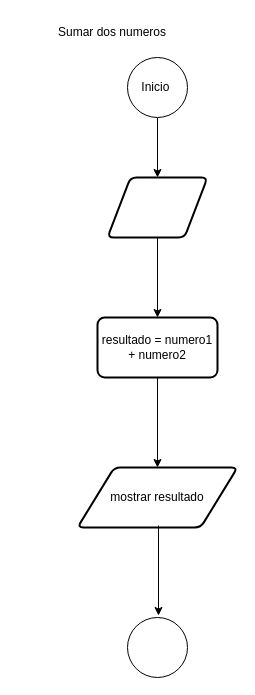
Image size: 255x695. Some labels were removed from this diagram. The centre of each missing label's shape, as x and y in pixels:
Fin: (157,647)
numero1 , numero2: (157,207)
